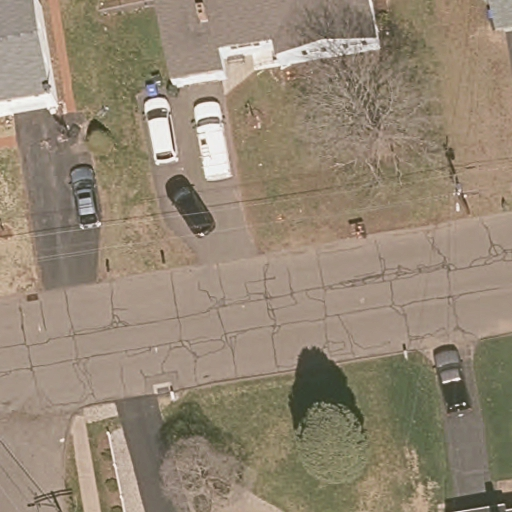DT: (452, 177, 478, 216)
